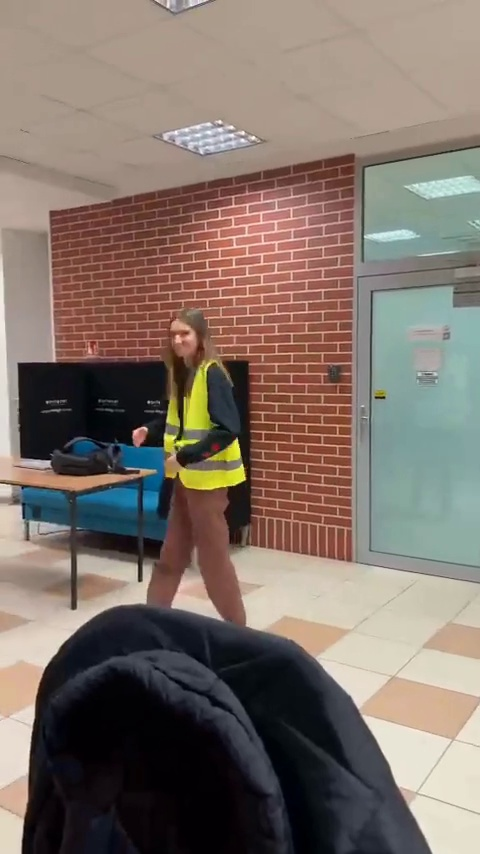vest: (132, 300, 250, 617)
